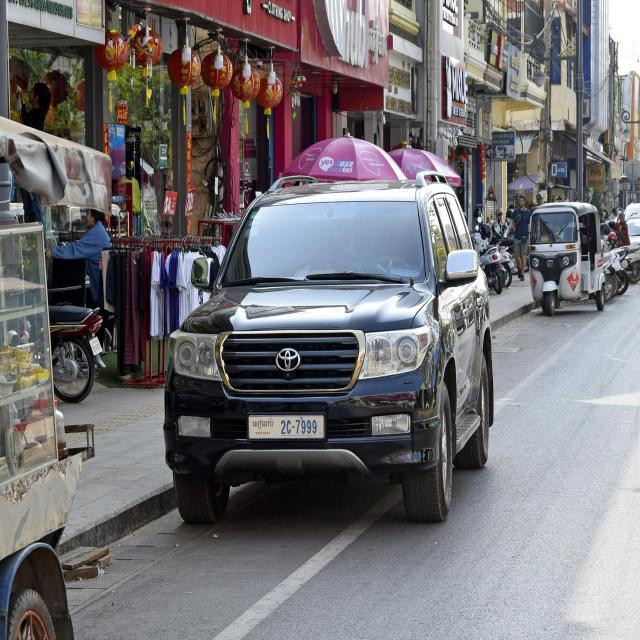Siem_Reap: (252, 420, 276, 430)
